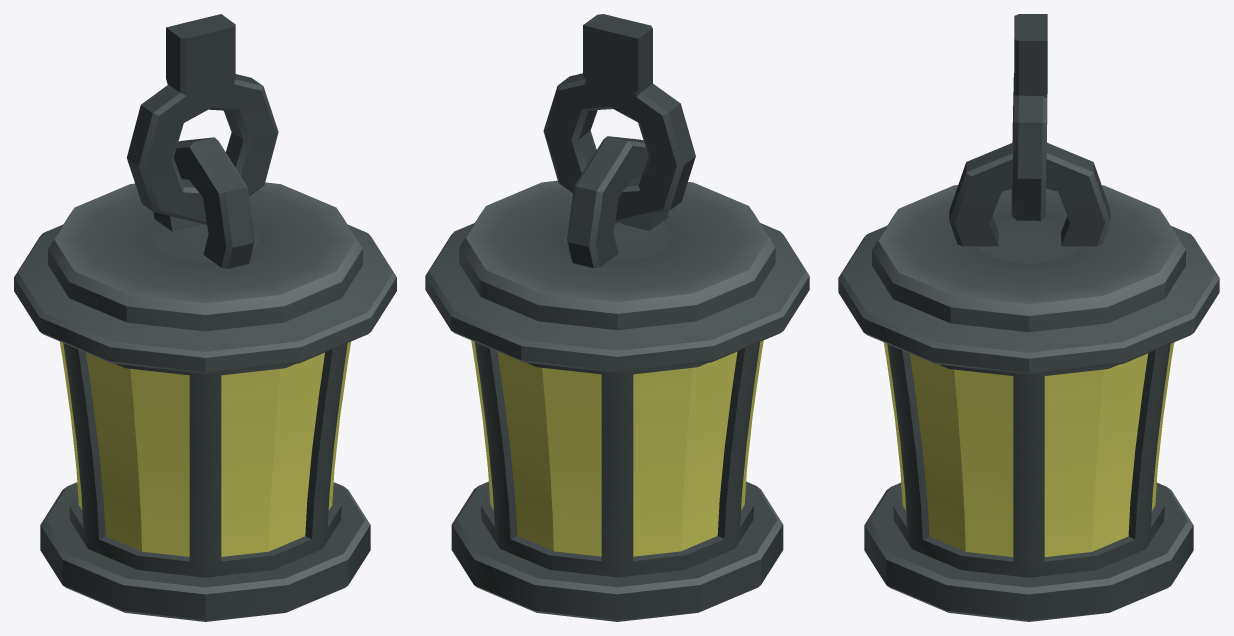
The model's file is Lamp-2-1.fbx.
The picture shows the model from 3 angles, left to right: view 1: azimuth 30°, elevation 25°; view 2: azimuth 150°, elevation 25°; view 3: azimuth 270°, elevation 25°; orthographic projection.
Visible parts, largest first — view 1: Lamp-2-1; view 2: Lamp-2-1; view 3: Lamp-2-1.
Boxes of the visible parts, x1,y1,x2,y2 form: Lamp-2-1: [14, 14, 396, 621]; Lamp-2-1: [425, 14, 809, 621]; Lamp-2-1: [838, 14, 1219, 621].
Bounding box in the file's own units: 62.32 × 94.68 × 62.32.
